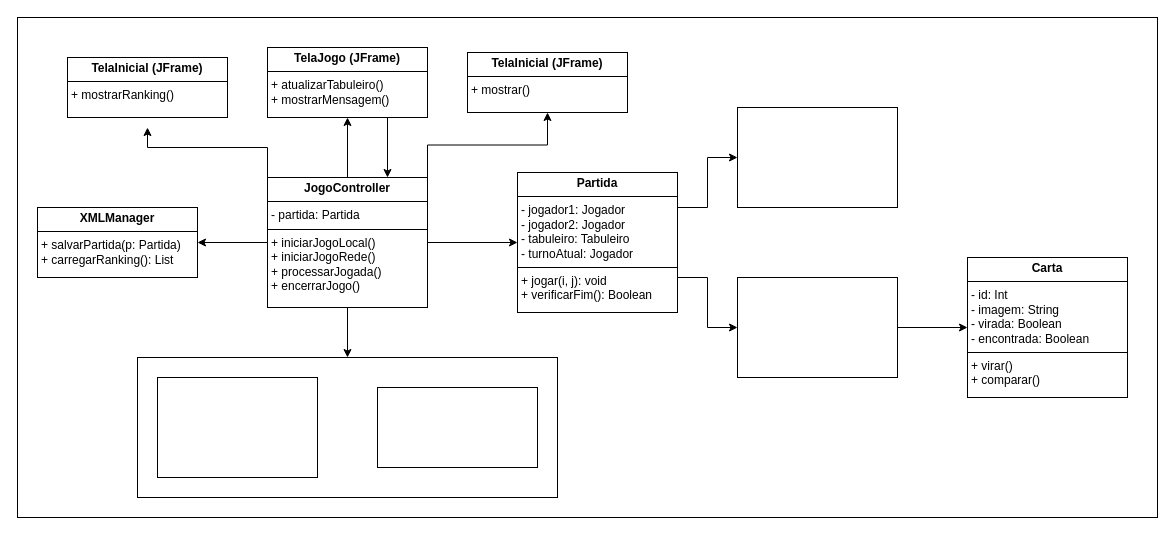
The diagram is 1175 pixels wide and 535 high, and some of its shapes have lost their labels. Here are the shapes that lost their labels. From the top down, the centre of each, then its label:
At (817,157): "Jogador - nome: String - pontuacao: Int + incrementarPontos()".
At (817,327): "Tabuleiro - cartas: Carta[] [] + embaralhar() + verificaPar()".
At (237,427): "ServidorJogo (Thread) - socketServidor - conexaoCliente + iniciar()".
At (457,427): "ClienteJogo (Thread) - socket + conectar()".
